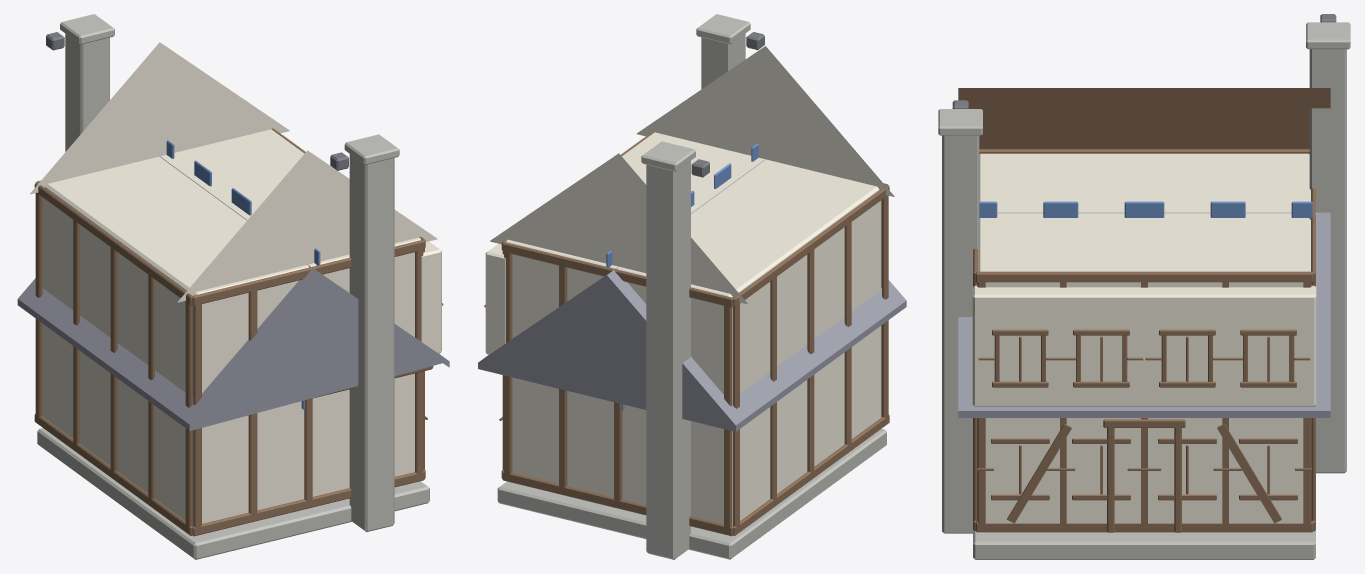
The model's file is town_timber_house_large.glb.
3 views of the same model, side by side, from view 1: azimuth 30°, elevation 25°; view 2: azimuth 150°, elevation 25°; view 3: azimuth 270°, elevation 25° (orthographic). The views are drawn at different scales.
Parts seen in each view (by area): view 1: world; view 2: world; view 3: world.
Part boxes in pixels (bbox=[...]): world: bbox=[17, 14, 449, 559]; world: bbox=[478, 14, 906, 559]; world: bbox=[938, 14, 1350, 559].
Bounding box in the file's own units: 1.39 × 2 × 1.72.
